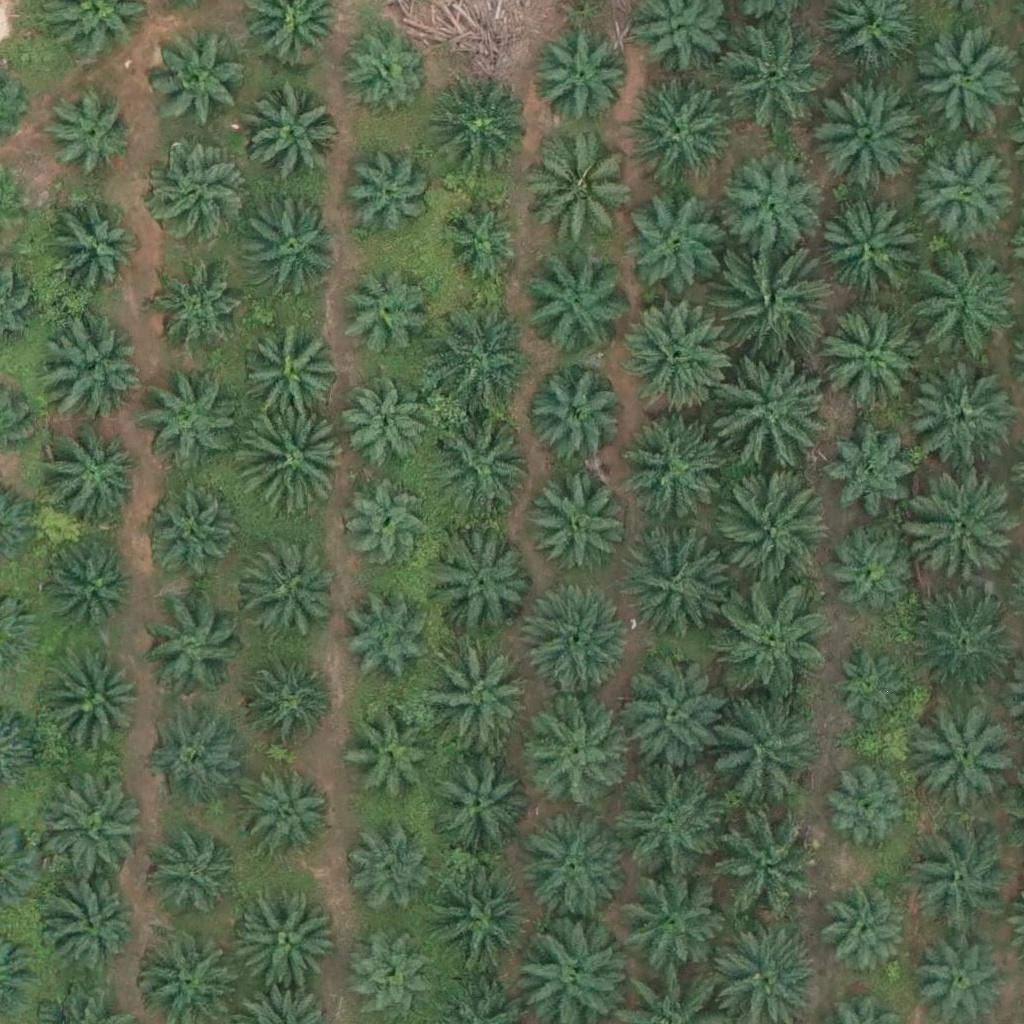Kelapa_Sawit: (903, 366, 1016, 480), (621, 523, 734, 637), (711, 249, 824, 362), (720, 478, 833, 591), (614, 659, 727, 772), (621, 413, 734, 526), (518, 250, 631, 363), (520, 585, 633, 698), (426, 647, 539, 760), (424, 405, 537, 518), (425, 305, 538, 418), (908, 27, 1021, 140), (619, 71, 732, 184), (715, 583, 827, 697), (424, 861, 536, 975), (235, 404, 347, 518), (39, 770, 151, 884), (910, 248, 1022, 361), (911, 480, 1023, 593), (910, 582, 1022, 695), (911, 701, 1023, 814), (900, 822, 1012, 935), (816, 301, 928, 414), (717, 361, 829, 474), (706, 693, 818, 806), (711, 803, 823, 916), (613, 858, 725, 971), (612, 767, 724, 880), (620, 297, 732, 410), (519, 814, 631, 927), (228, 883, 340, 996), (814, 76, 926, 189), (718, 21, 830, 134), (528, 134, 640, 247), (823, 423, 923, 524), (523, 368, 623, 469), (531, 472, 631, 573), (527, 709, 627, 810), (423, 753, 523, 854), (434, 536, 534, 637), (233, 761, 333, 862), (246, 328, 346, 429), (138, 376, 238, 477), (140, 486, 240, 587), (145, 830, 245, 931), (45, 422, 145, 523), (916, 140, 1016, 241), (813, 202, 913, 303), (722, 157, 822, 258), (622, 192, 722, 293), (534, 26, 634, 127), (146, 142, 246, 243), (38, 83, 138, 184), (234, 539, 334, 639), (143, 596, 243, 696), (143, 720, 243, 820), (44, 203, 144, 303), (47, 319, 147, 419), (48, 656, 148, 756), (41, 877, 141, 977), (428, 80, 528, 180), (242, 82, 342, 182), (241, 197, 341, 297), (150, 27, 250, 127), (337, 272, 425, 360), (341, 384, 429, 472), (346, 710, 434, 798), (351, 830, 439, 918), (239, 655, 327, 743), (160, 273, 248, 361), (47, 539, 135, 627), (437, 193, 525, 281), (824, 884, 911, 972), (824, 760, 911, 848), (835, 527, 922, 615), (343, 481, 430, 569), (344, 600, 431, 688), (346, 935, 433, 1023), (344, 147, 431, 235), (341, 24, 428, 112), (833, 650, 908, 726)
